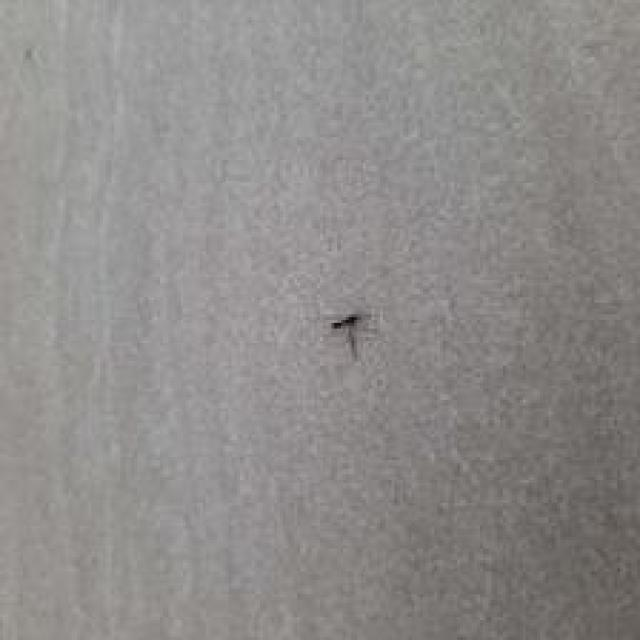Aedes albopictus: (330, 311, 364, 360)
